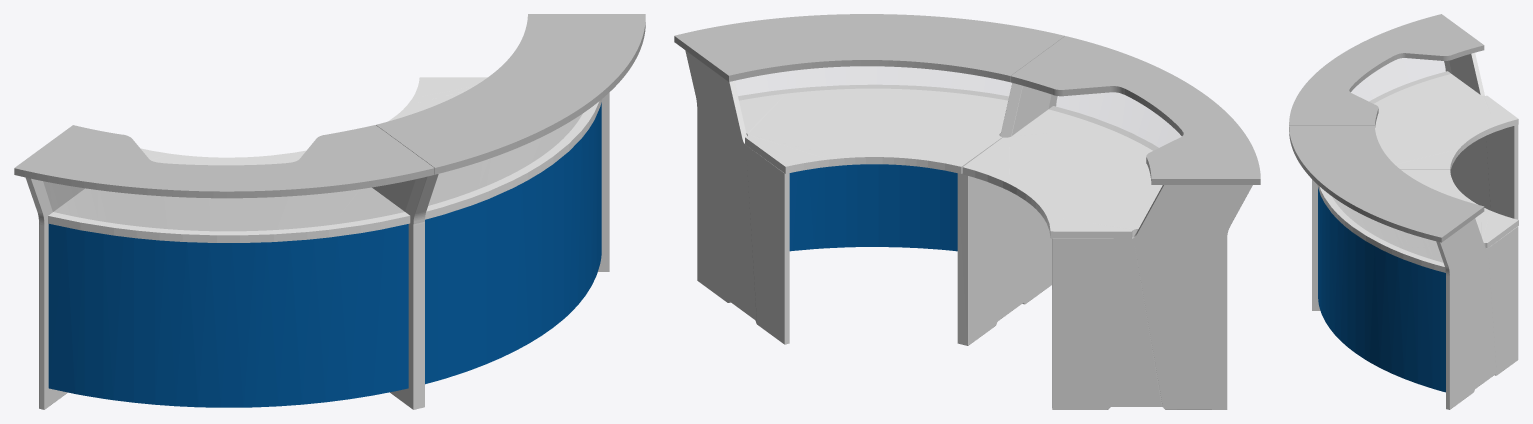
The model's file is Reception.FBX.
The picture shows the model from 3 angles, left to right: view 1: azimuth 30°, elevation 25°; view 2: azimuth 150°, elevation 25°; view 3: azimuth 270°, elevation 25°; orthographic projection. The views are drawn at different scales.
Visible parts, largest first — view 1: reception; view 2: reception; view 3: reception.
Part boxes in pixels (box(x1,y1,x2,y2)): reception: box(14, 14, 645, 409); reception: box(674, 14, 1260, 409); reception: box(1289, 14, 1518, 409).
Bounding box in the file's own units: 278 × 106 × 121.
